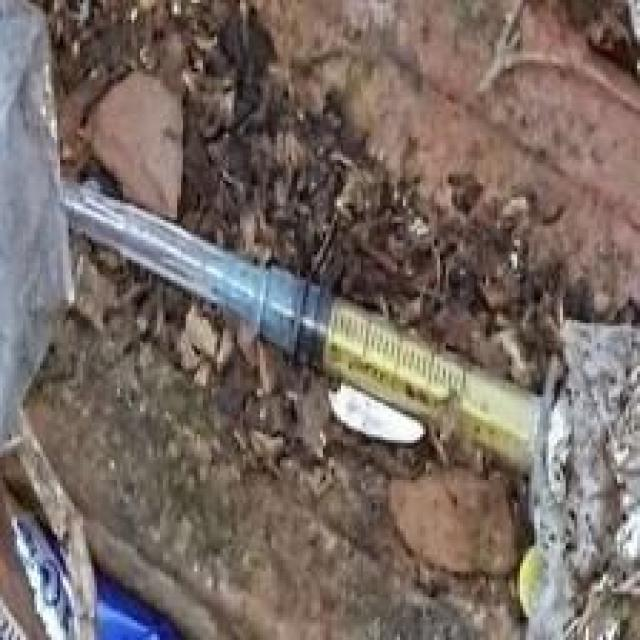syringe: (66, 158, 627, 510)
